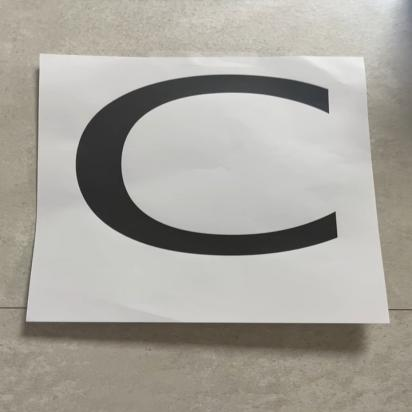seat: (46, 46, 384, 320)
